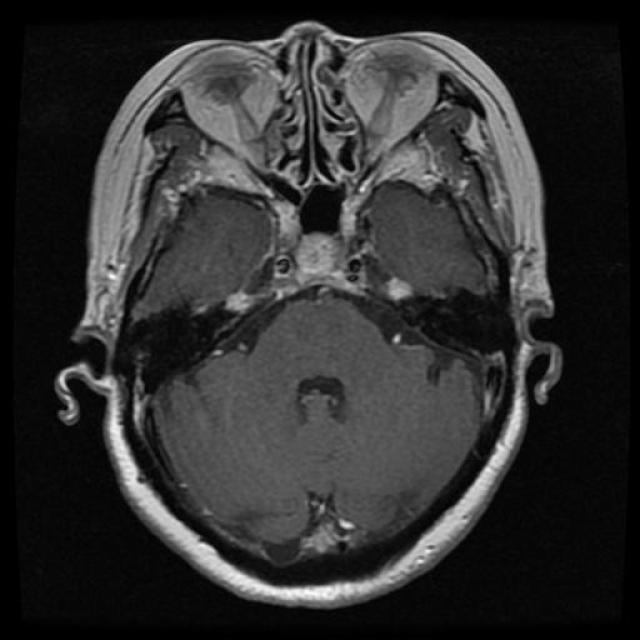pituitary: (252, 182, 366, 312)
